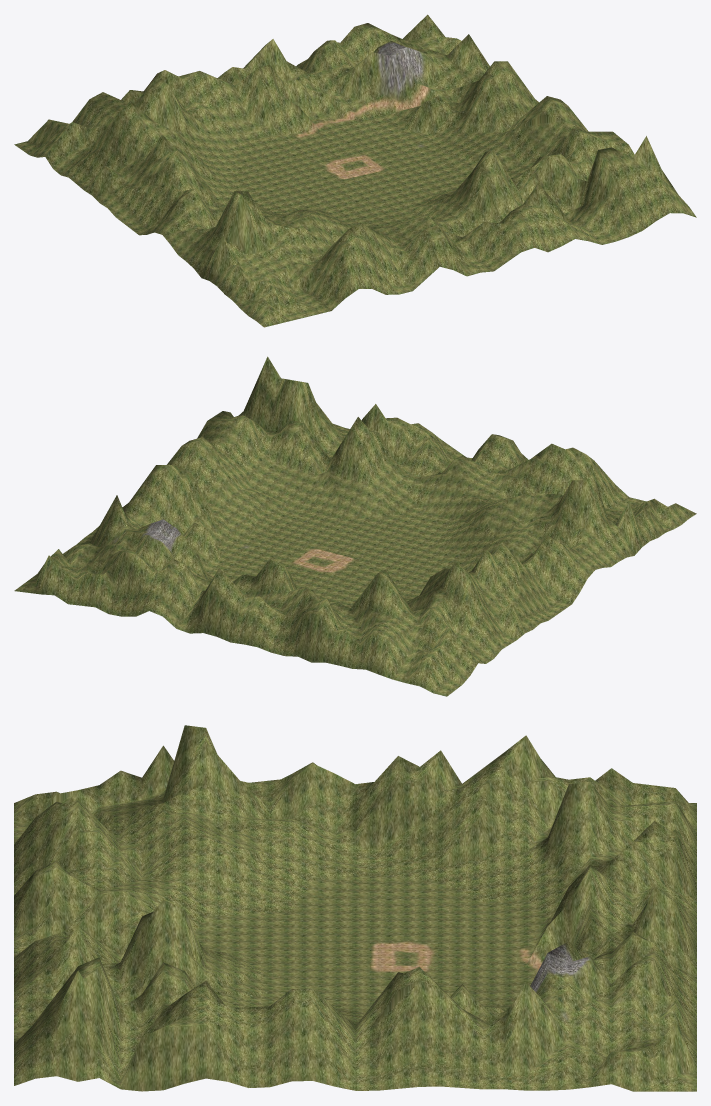
3 views of the same model, one above another, from view 1: azimuth 30°, elevation 25°; view 2: azimuth 150°, elevation 25°; view 3: azimuth 270°, elevation 25° (orthographic). The views are drawn at different scales.
Parts seen in each view (by area): view 1: Mesh; view 2: Mesh; view 3: Mesh.
Part boxes in pixels (x1,y1,x2,y2): Mesh: [14, 14, 696, 327]; Mesh: [14, 356, 696, 696]; Mesh: [14, 725, 696, 1091].
Size of the model in its own units: 250 by 42.41 by 250.
1 material, 1 textured.
